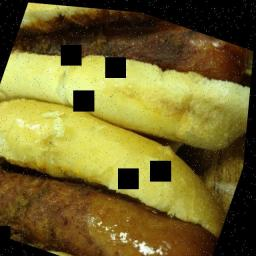hotdog: (12, 1, 255, 121), (0, 151, 228, 256)
